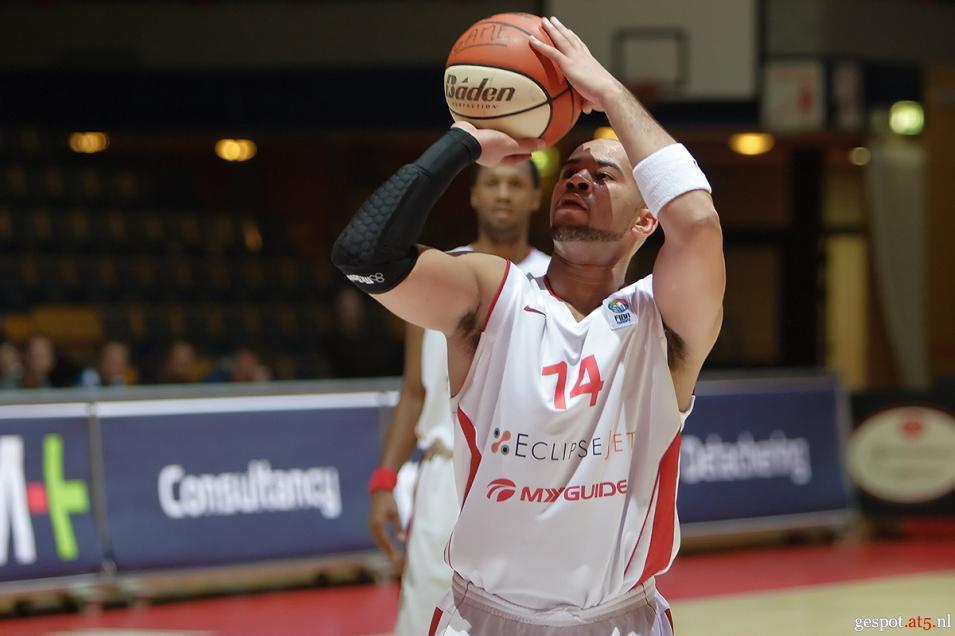basketball: (444, 13, 585, 152)
